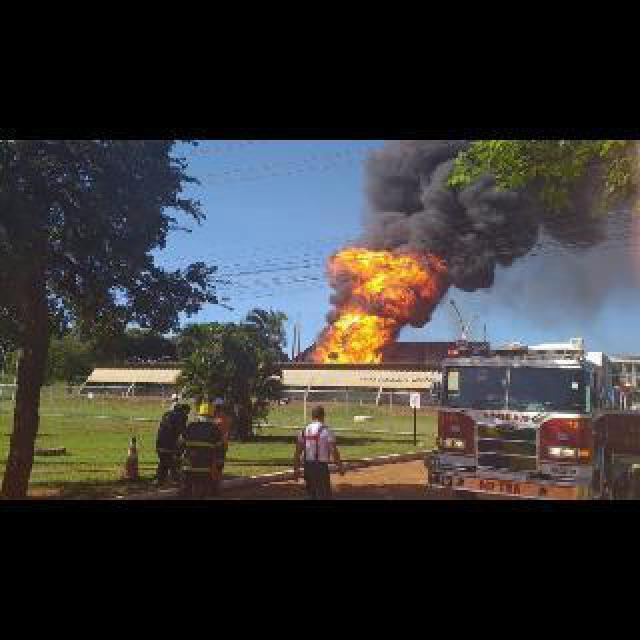Fire: (310, 234, 446, 362)
Smoke: (349, 137, 531, 266)
